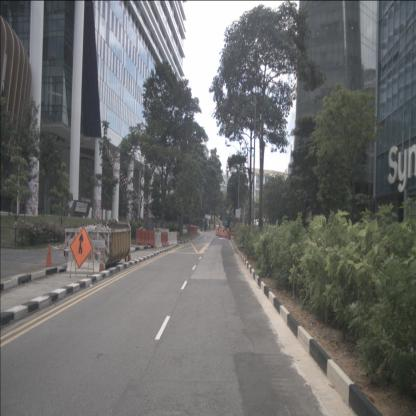barrier: (66, 240, 106, 274), (135, 229, 154, 246), (153, 232, 163, 248), (160, 232, 169, 248), (166, 232, 174, 246), (172, 232, 178, 246), (226, 228, 231, 240), (187, 226, 193, 234), (192, 226, 197, 235), (208, 224, 216, 229)
cone: (44, 244, 54, 266), (98, 249, 106, 274), (126, 243, 133, 264)
